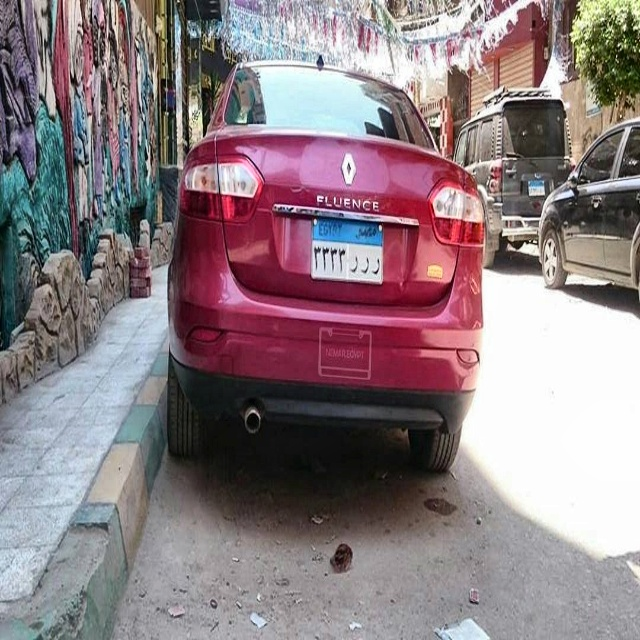License Plate: (309, 213, 386, 286)
